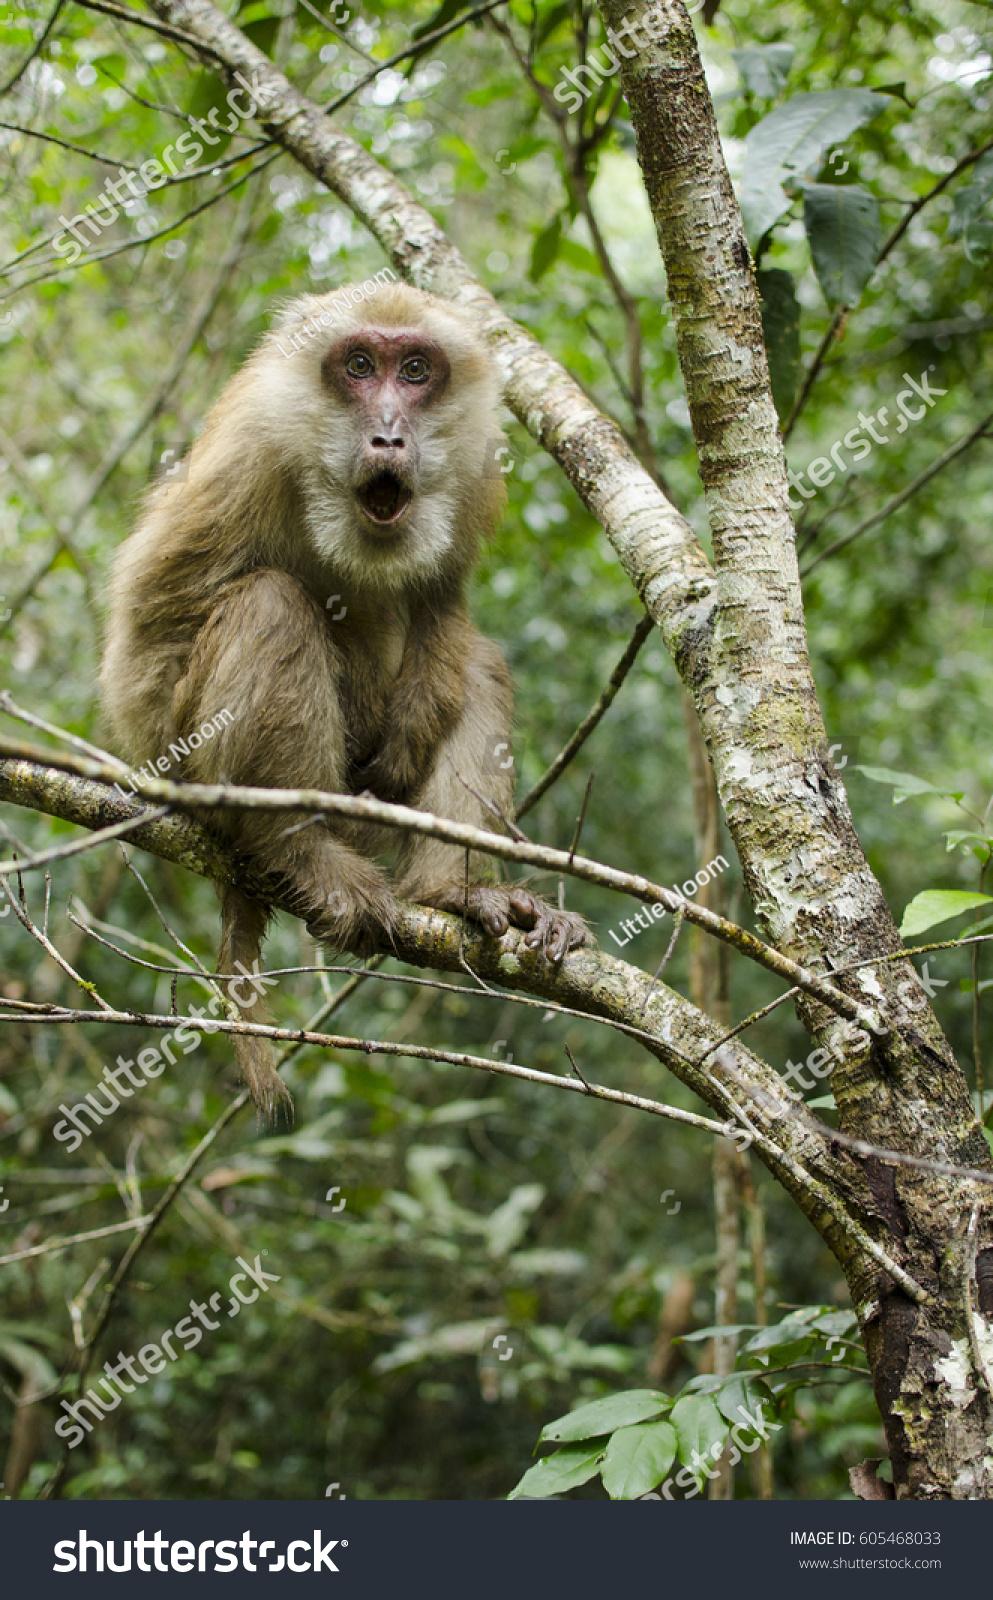monkey: (54, 261, 626, 1146)
